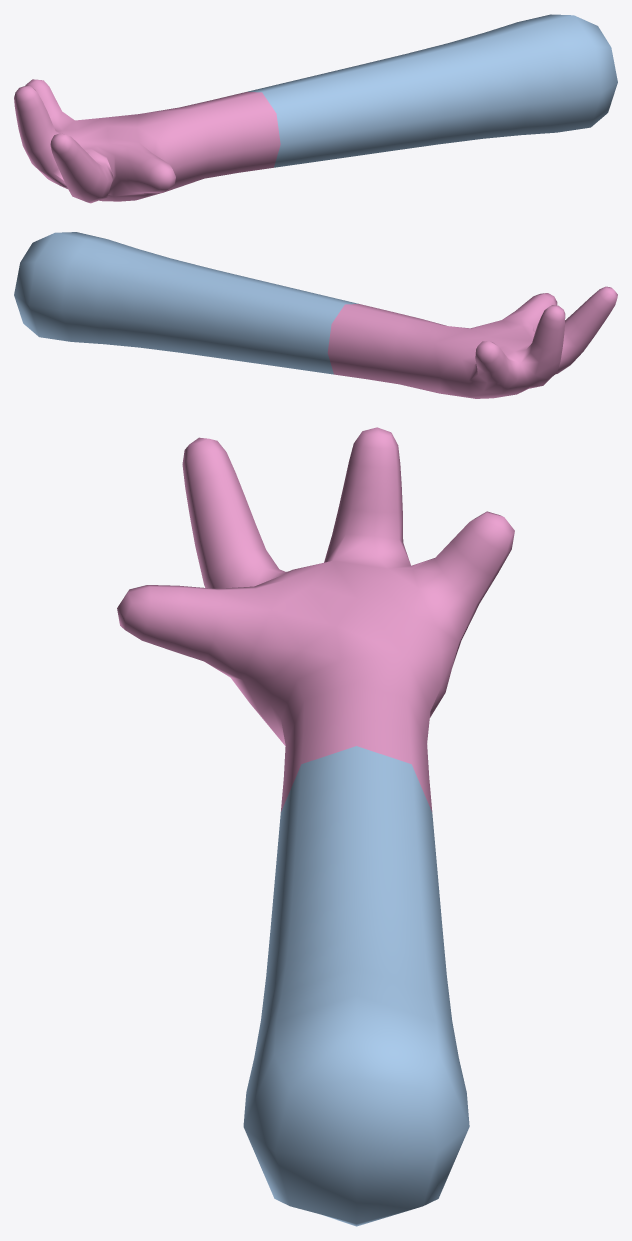
File: HandWW.fbx
3 views of the same model, one above another, from view 1: azimuth 30°, elevation 25°; view 2: azimuth 150°, elevation 25°; view 3: azimuth 270°, elevation 25° (orthographic). The views are drawn at different scales.
Visible parts, largest first — view 1: Cube; view 2: Cube; view 3: Cube.
Boxes of the visible parts, bbox=[...] form: Cube: bbox=[14, 14, 617, 203]; Cube: bbox=[14, 232, 617, 398]; Cube: bbox=[117, 427, 514, 1226].
Size of the model in its own units: 228 by 61.19 by 71.25.
